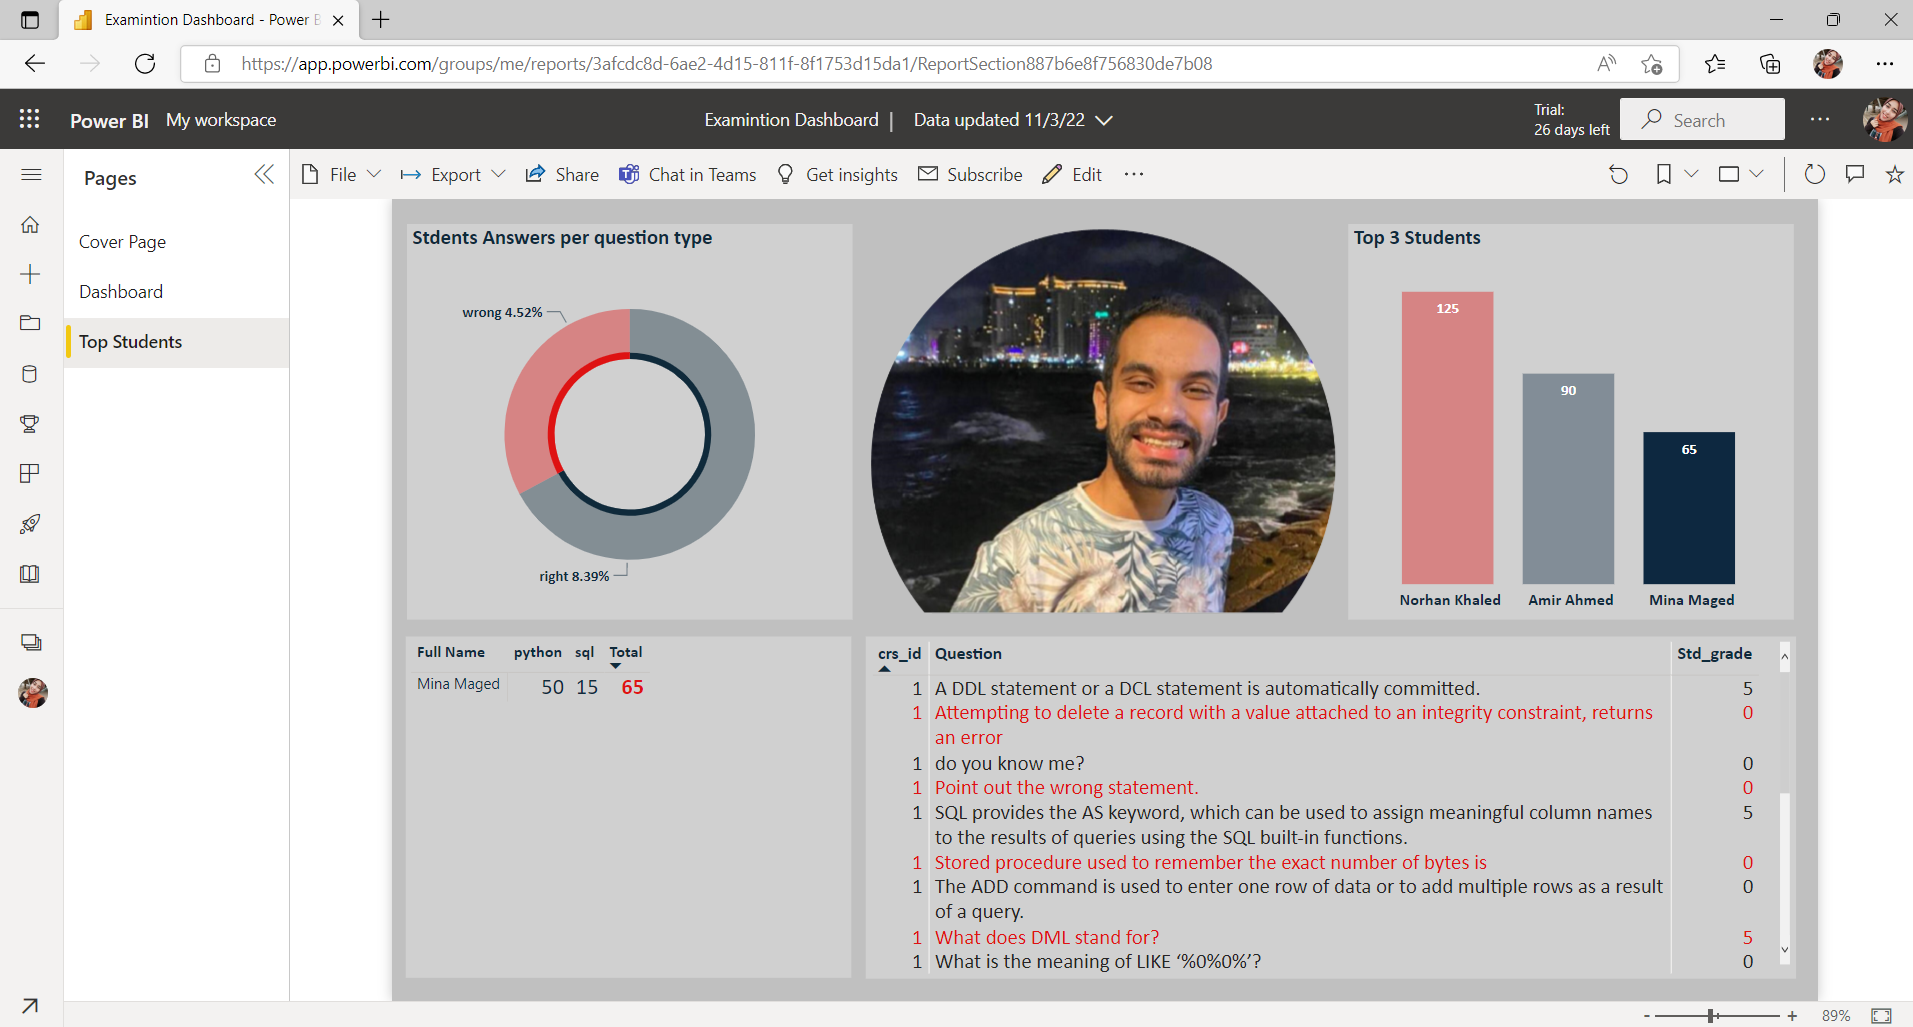

This screenshot's page, from the dashboard's own definition file:
{"tool":"powerbi","page":{"name":"Top Students","canvas":[1280,720],"ordinal":2},"visuals":[{"type":"pivotTable","fields":{"Rows":["Student.Std_FullName"],"Columns":["Course.crs_name"],"Values":["Sum(exam_Q_std.std_Q_grade)"]},"box":[12.8,392.6,399.7,306.1],"z":0},{"type":"clusteredColumnChart","title":"Top 3 Students","fields":{"Category":["Student.Std_FullName"],"Y":["Sum(exam_Q_std.std_Q_grade)"]},"box":[858.9,22.7,400,355],"z":1000},{"type":"donutChart","title":"Stdents Answers per question type","fields":{"Category":["exam_Q_std.Answers"],"Y":["CountNonNull(exam_Q_std.Answers)"]},"box":[12.9,22.6,400,355],"z":2000},{"type":"tableEx","fields":{"Values":["Course.crs_id","Questions.Question","Sum(exam_Q_std.std_Q_grade)"]},"box":[425.2,392.6,834.8,307.6],"z":3000},{"type":"ImgViewerVisual1455487926945","fields":{"Values":["Images.Url"]},"box":[425.2,22.7,426.6,354.3],"z":4000}]}

Visuals, with their boxes on the page's 1280x720 design canvas (x1, y1, x2, y2). These are canvas units, not pixel positions in the 1913x1027 screenshot, which may show the page scaled, cropped or inside an application window:
pivotTable - Student.Std_FullName x Course.crs_name: 13,393,412,699
"Top 3 Students" clusteredColumnChart: 859,23,1259,378
"Stdents Answers per question type" donutChart: 13,23,413,378
tableEx - Course.crs_id x Questions.Question: 425,393,1260,700
ImgViewerVisual1455487926945 - Images.Url: 425,23,852,377
